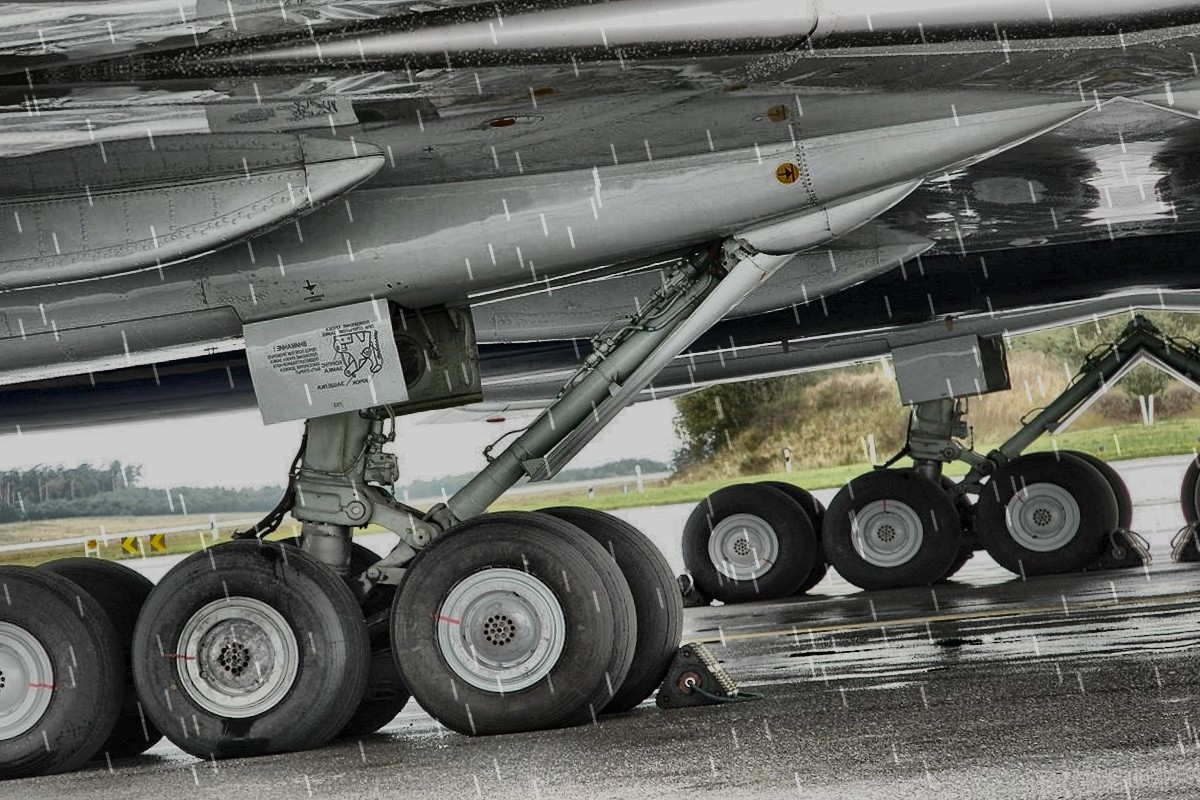chock: (645, 634, 749, 716), (1092, 522, 1158, 573), (1163, 515, 1200, 567), (671, 567, 713, 612)
wheel: (377, 497, 653, 746), (119, 529, 380, 773), (0, 555, 124, 793), (968, 447, 1121, 584), (820, 466, 969, 599), (676, 473, 822, 608)
